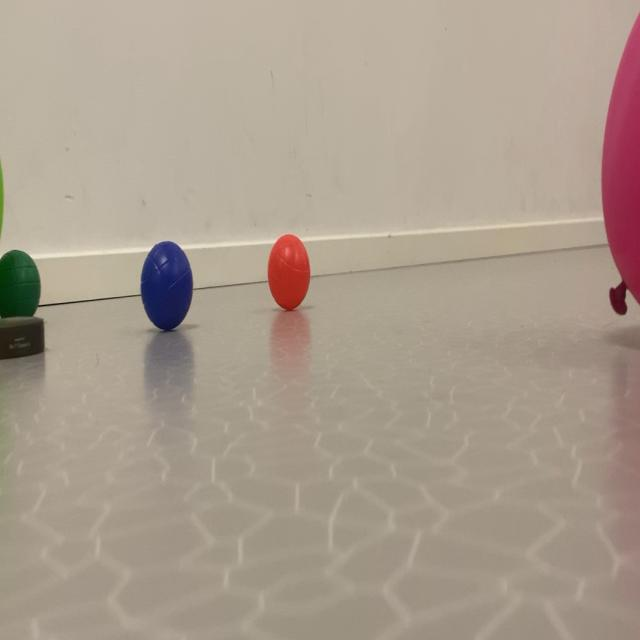7: (243, 160, 322, 396)
blue ball: (0, 205, 327, 350)
green ball: (139, 172, 215, 400)
red ball: (0, 163, 54, 434)
